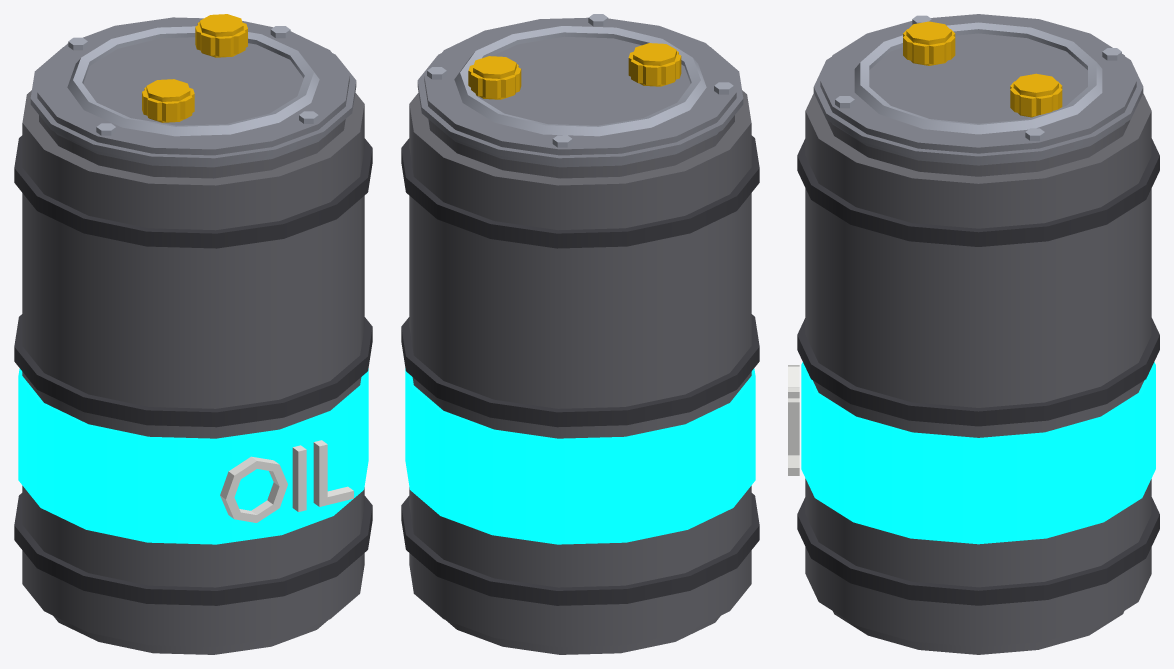
File: oil_drum.fbx
The picture shows the model from 3 angles, left to right: view 1: azimuth 30°, elevation 25°; view 2: azimuth 150°, elevation 25°; view 3: azimuth 270°, elevation 25°; orthographic projection.
Parts seen in each view (by area): view 1: oil_drum; view 2: oil_drum; view 3: oil_drum.
Boxes of the visible parts, bbox=[...] form: oil_drum: bbox=[14, 14, 372, 654]; oil_drum: bbox=[401, 14, 759, 654]; oil_drum: bbox=[788, 14, 1159, 654].
Bounding box in the file's own units: 2.2 × 3.57 × 2.26.
